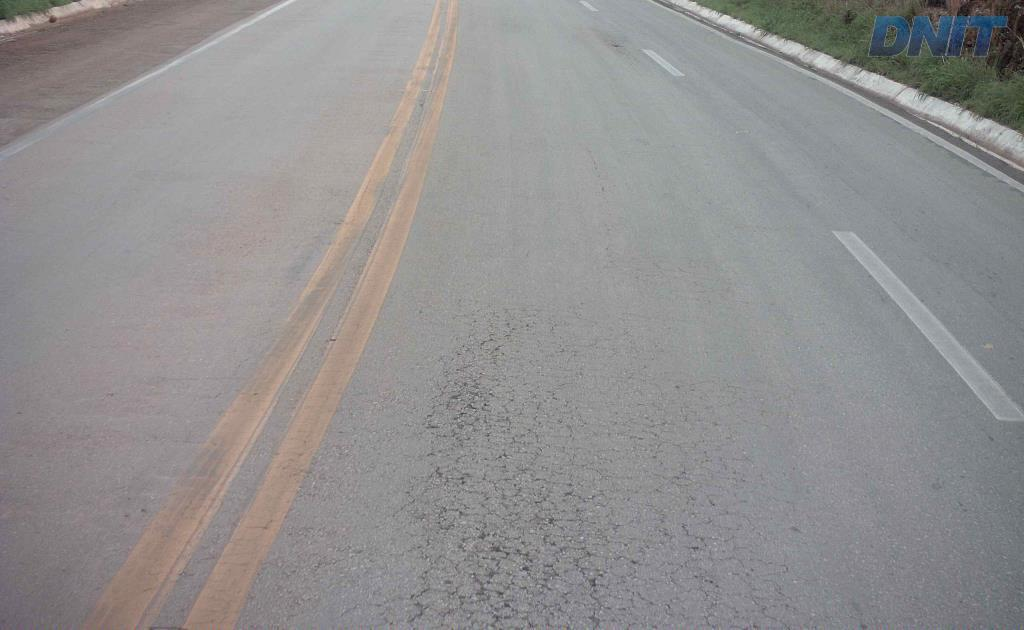crack: (556, 533, 612, 610), (445, 370, 497, 434), (469, 541, 511, 604), (486, 589, 518, 629)
